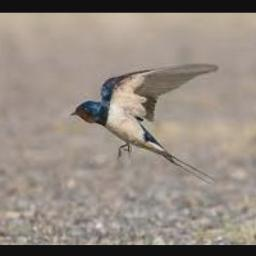Swallow: (70, 63, 219, 183)
